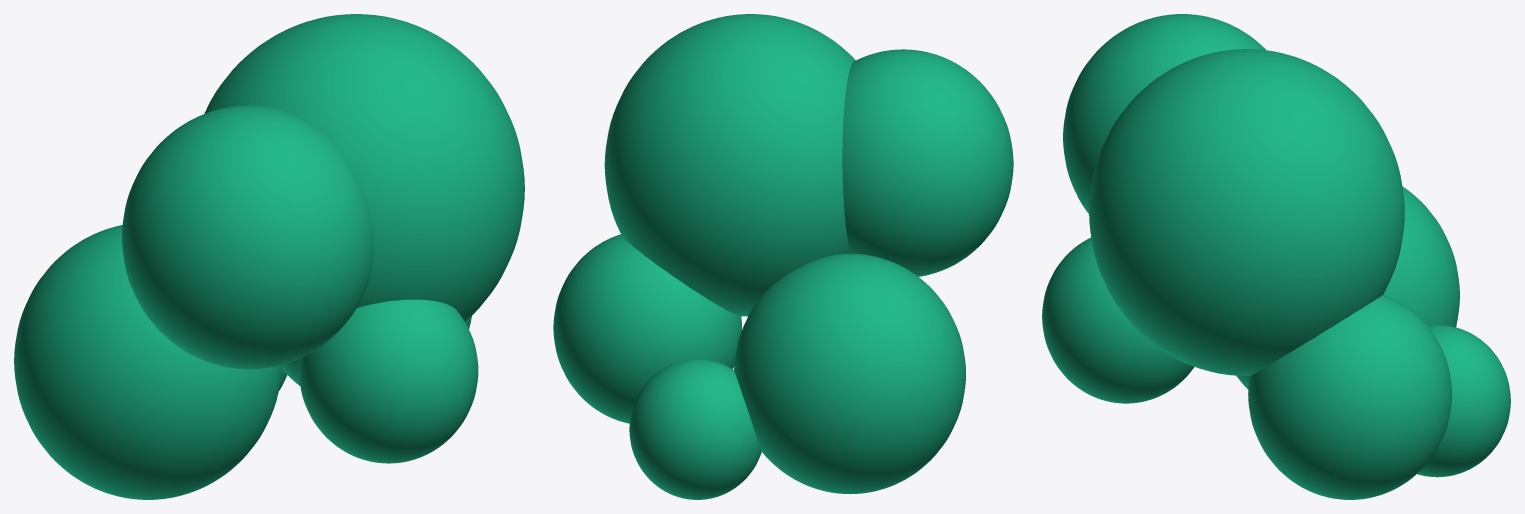
Rendered from br-m-balls-green.fbx.
3 renders of one model, left to right at view 1: azimuth 30°, elevation 25°; view 2: azimuth 150°, elevation 25°; view 3: azimuth 270°, elevation 25°, orthographic. The views are drawn at different scales.
Parts seen in each view (by area): view 1: pSphere4, pSphere2, pSphere5, pSphere8; view 2: pSphere2, pSphere5, pSphere4, pSphere3, pSphere6; view 3: pSphere2, pSphere3, pSphere8, pSphere4, pSphere6, pSphere5.
Boxes of the visible parts, <box> form: pSphere4: <box>122,105,373,369</box>; pSphere2: <box>204,14,524,321</box>; pSphere5: <box>14,225,281,499</box>; pSphere8: <box>299,299,478,463</box>; pSphere2: <box>604,14,855,316</box>; pSphere5: <box>734,253,965,494</box>; pSphere4: <box>842,49,1013,276</box>; pSphere3: <box>553,234,741,423</box>; pSphere6: <box>629,359,761,499</box>; pSphere2: <box>1089,49,1404,375</box>; pSphere3: <box>1248,294,1451,499</box>; pSphere8: <box>1042,237,1194,403</box>; pSphere4: <box>1063,14,1266,213</box>; pSphere6: <box>1417,325,1510,477</box>; pSphere5: <box>1236,186,1459,389</box>.
Bounding box in the file's own units: 0.9986 × 0.9976 × 0.994.
